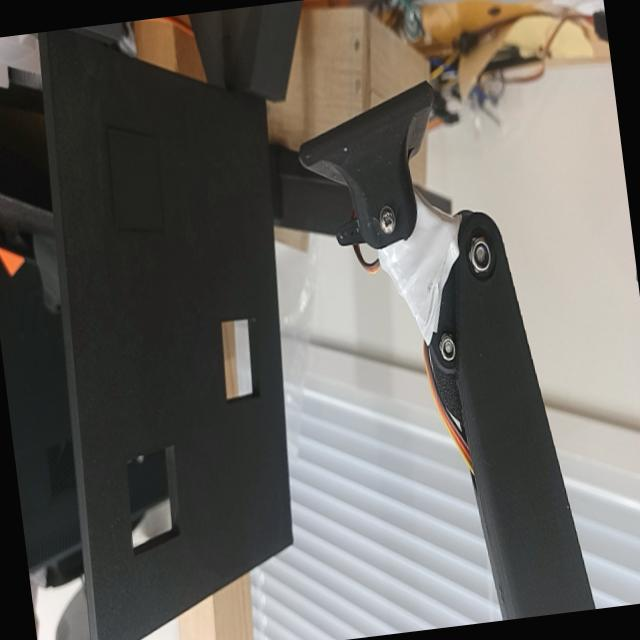Obstacle: (125, 444, 181, 548), (218, 314, 258, 403)
Wall: (46, 32, 295, 640)
